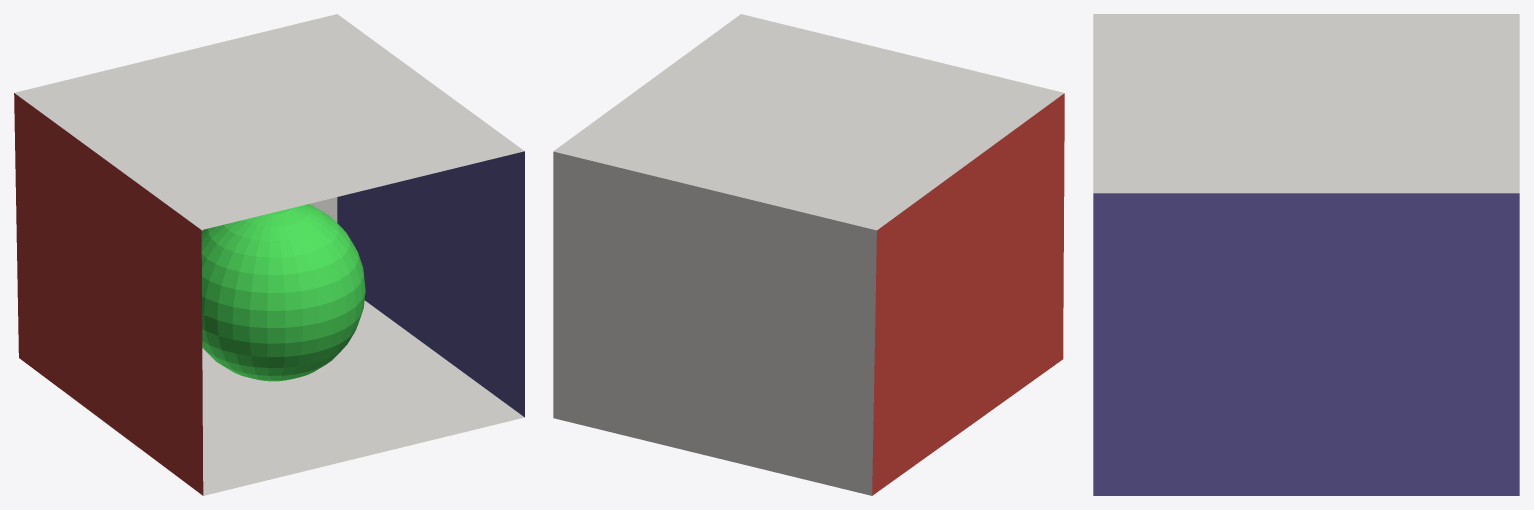
The model's file is cornell_ball.glb.
3 views of the same model, side by side, from view 1: azimuth 30°, elevation 25°; view 2: azimuth 150°, elevation 25°; view 3: azimuth 270°, elevation 25° (orthographic). The views are drawn at different scales.
Visible parts, largest first — view 1: CornellBox-Empty-Squashed, Sphere; view 2: CornellBox-Empty-Squashed; view 3: CornellBox-Empty-Squashed.
Boxes of the visible parts, left/top/right/bottom form: CornellBox-Empty-Squashed: left=14, top=14, right=524, bottom=495; Sphere: left=201, top=204, right=365, bottom=381; CornellBox-Empty-Squashed: left=553, top=14, right=1064, bottom=495; CornellBox-Empty-Squashed: left=1093, top=14, right=1519, bottom=495.
Size of the model in its own units: 2.02 by 1.59 by 2.03.
